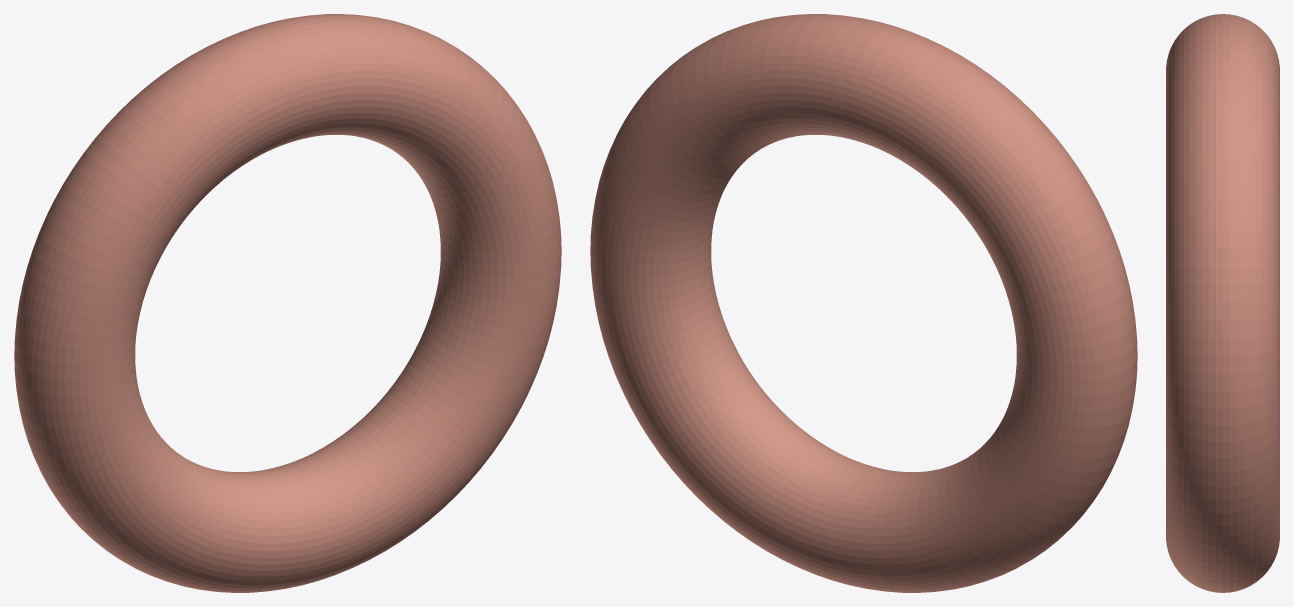
3 renders of one model, left to right at view 1: azimuth 30°, elevation 25°; view 2: azimuth 150°, elevation 25°; view 3: azimuth 270°, elevation 25°, orthographic. The views are drawn at different scales.
Visible parts, largest first — view 1: world; view 2: world; view 3: world.
Boxes of the visible parts, x1,y1,x2,y2 form: world: (14,14,561,592); world: (590,14,1137,592); world: (1166,14,1279,592).
Size of the model in its own units: 18.27 by 18.27 by 3.59.
